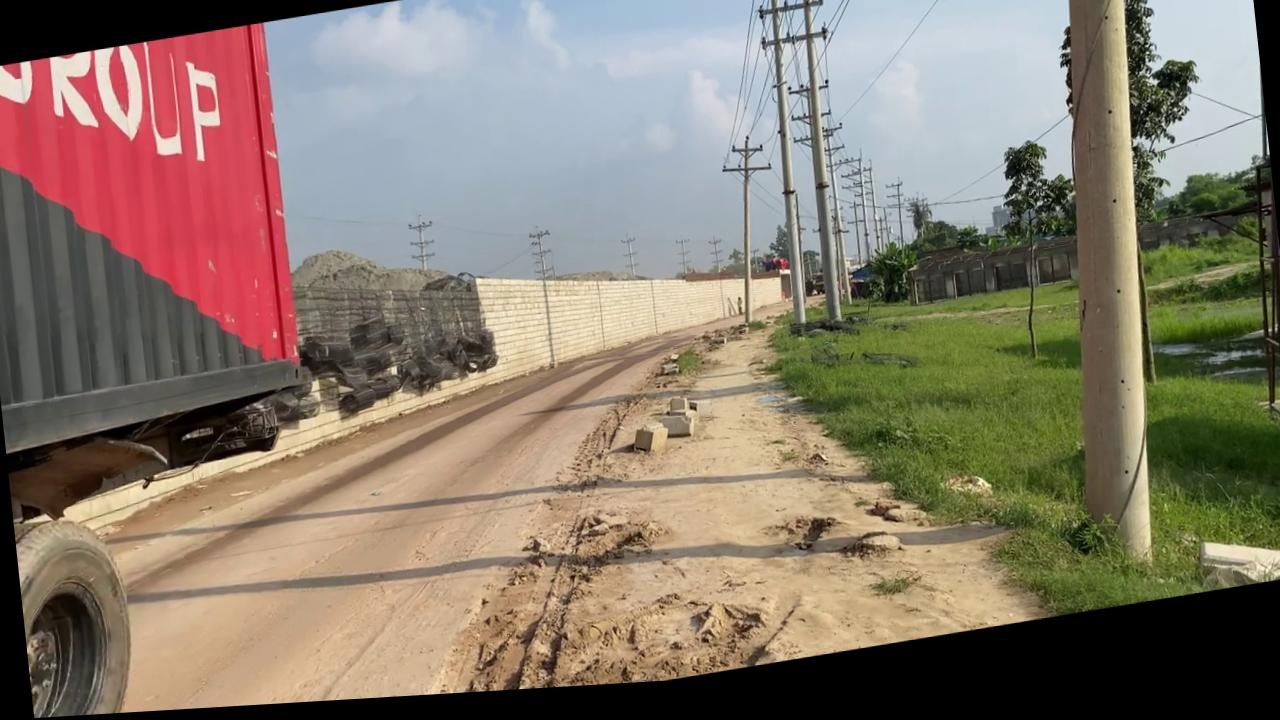Broken-road: (44, 276, 1046, 718)
Obstacle: (657, 400, 699, 449), (630, 426, 670, 464)
Pole: (1021, 0, 1191, 591), (786, 0, 849, 335), (754, 0, 815, 337), (718, 139, 788, 338)
Sidewalk: (1149, 335, 1280, 417)
Tree: (0, 21, 346, 720)
Upstairs: (31, 187, 804, 536)
